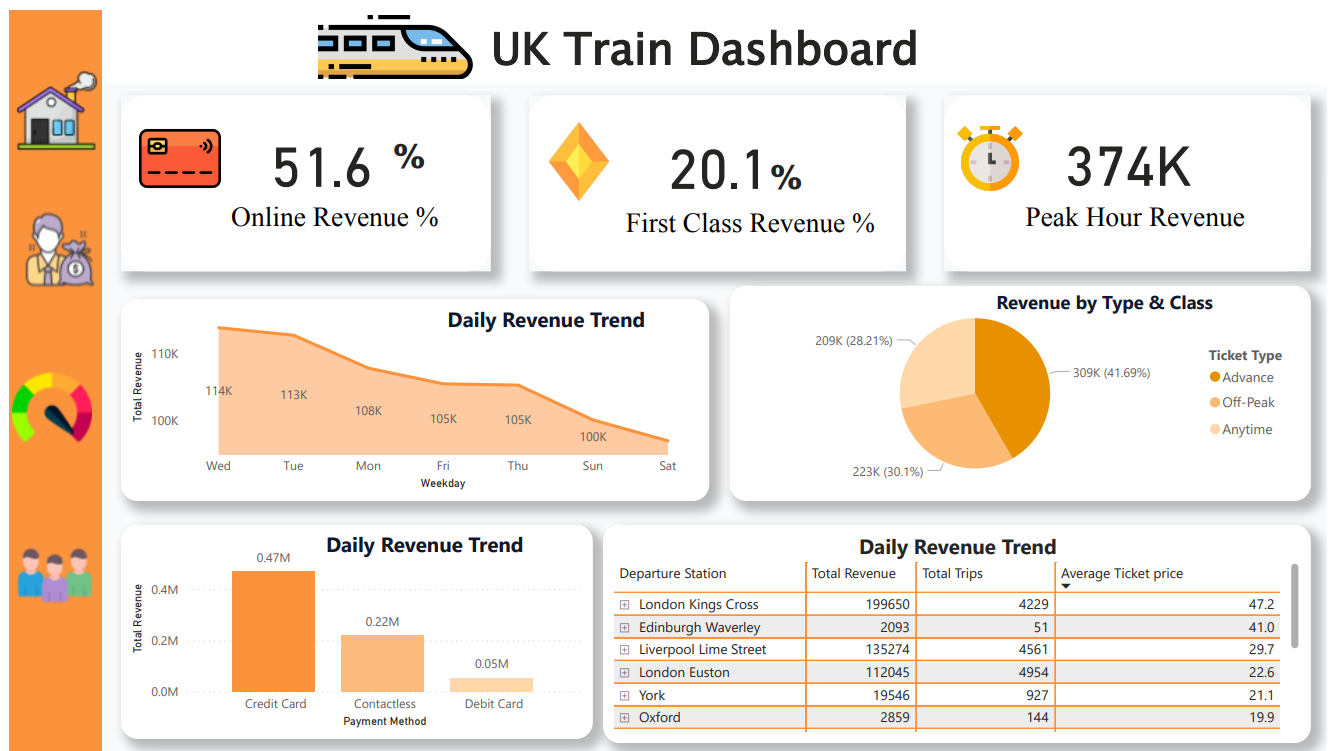

The page's visual inventory and layout, read from the dashboard file:
{"tool":"powerbi","page":{"name":" Page 3","canvas":[1280,720],"ordinal":2},"visuals":[{"type":"shape","box":[108.6,82,359.5,171.3],"z":0},{"type":"shape","box":[505.5,82,365.6,171.3],"z":1000},{"type":"shape","box":[908.4,82,355.9,171.3],"z":2000},{"type":"shape","box":[90.4,0,1190.4,71.2],"z":3000},{"type":"shape","box":[0,0,90.4,719.2],"z":4000},{"type":"textbox","box":[462.5,0,481.2,82.5],"z":5000},{"type":"actionButton","box":[0,51.2,121.2,92.5],"z":6000},{"type":"actionButton","box":[0,172.5,100,117.5],"z":7000},{"type":"actionButton","box":[0,342.9,90,84.3],"z":8000},{"type":"actionButton","box":[0,503.8,100,88.8],"z":9000},{"type":"image","box":[296.2,0,166.2,71.2],"z":10000},{"type":"textbox","box":[211.1,179.8,218.4,47.1],"z":11000},{"type":"textbox","box":[368,113.4,49.5,71.2],"z":12000},{"type":"stackedAreaChart","fields":{"Category":["Dim Date.Weekday"],"Y":["Measures .Total Revenue"]},"box":[108.6,280,571.4,195.7],"z":13000},{"type":"textbox","box":[421,279.9,232.8,47.1],"z":14000},{"type":"pieChart","fields":{"Y":["Measures .Total Revenue"],"Category":["Dim Ticket Type.Ticket Type"]},"box":[700,267.1,564.3,208.6],"z":15000},{"type":"columnChart","fields":{"Y":["Measures .Total Revenue"],"Category":["Dim payment method.Payment Method"]},"box":[108.6,498.6,458.6,208.6],"z":16000},{"type":"pivotTable","title":"Daily Revenue Trend","fields":{"Rows":["Dim Departure station.Departure Station","Dim Arrival Destination.Arrival Destination"],"Values":["Measures .Total Revenue","Measures .Total Trips","Measures .Average Ticket price"]},"box":[577.1,498.6,687.1,212.9],"z":17000},{"type":"card","fields":{"Values":["Measures .Online Purchase %"]},"box":[137.5,70,330.6,149.6],"z":18000},{"type":"image","box":[121.9,106.2,89.3,74.8],"z":19000},{"type":"image","box":[512.7,103.8,80.8,85.7],"z":20000},{"type":"card","fields":{"Values":["Measures .First Class % of Revenue"]},"box":[530.8,41,316.1,212.3],"z":21000},{"type":"textbox","box":[733.5,132.7,49.5,71.2],"z":22000},{"type":"textbox","box":[593.6,185.8,269,47.1],"z":23000},{"type":"textbox","box":[982,179.8,264.2,47.1],"z":24000},{"type":"card","fields":{"Values":["Measures .Peak Hour Revenue"]},"box":[929,88.1,316.1,112.2],"z":25000},{"type":"image","box":[914.5,107.4,76,72.4],"z":26000},{"type":"textbox","box":[954.3,265.7,264.3,47.1],"z":27000},{"type":"textbox","box":[302.9,498.6,232.9,47.1],"z":28000}]}

Visuals, with their boxes in screenshot pixels (x1, y1, x2, y2), scaled from the page's 1280x720 canvas onto the 1334x751 screenshot:
shape: bbox=[113, 86, 488, 264]
shape: bbox=[527, 86, 908, 264]
shape: bbox=[947, 86, 1318, 264]
shape: bbox=[94, 0, 1333, 74]
shape: bbox=[0, 0, 94, 750]
textbox: bbox=[482, 0, 984, 86]
actionButton: bbox=[0, 53, 126, 150]
actionButton: bbox=[0, 180, 104, 302]
actionButton: bbox=[0, 358, 94, 446]
actionButton: bbox=[0, 525, 104, 618]
image: bbox=[309, 0, 482, 74]
textbox: bbox=[220, 188, 448, 237]
textbox: bbox=[384, 118, 435, 193]
stackedAreaChart - Dim Date.Weekday x Measures .Total Revenue: bbox=[113, 292, 709, 496]
textbox: bbox=[439, 292, 681, 341]
pieChart - Measures .Total Revenue x Dim Ticket Type.Ticket Type: bbox=[730, 279, 1318, 496]
columnChart - Measures .Total Revenue x Dim payment method.Payment Method: bbox=[113, 520, 591, 738]
"Daily Revenue Trend" pivotTable: bbox=[601, 520, 1318, 742]
card - Measures .Online Purchase %: bbox=[143, 73, 488, 229]
image: bbox=[127, 111, 220, 189]
image: bbox=[534, 108, 619, 198]
card - Measures .First Class % of Revenue: bbox=[553, 43, 883, 264]
textbox: bbox=[764, 138, 816, 213]
textbox: bbox=[619, 194, 899, 243]
textbox: bbox=[1023, 188, 1299, 237]
card - Measures .Peak Hour Revenue: bbox=[968, 92, 1298, 209]
image: bbox=[953, 112, 1032, 188]
textbox: bbox=[995, 277, 1270, 326]
textbox: bbox=[316, 520, 558, 569]
